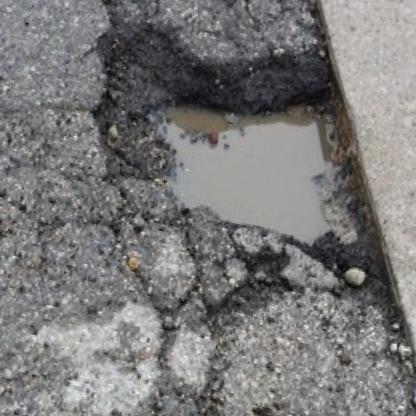pothole: (58, 15, 416, 279)
